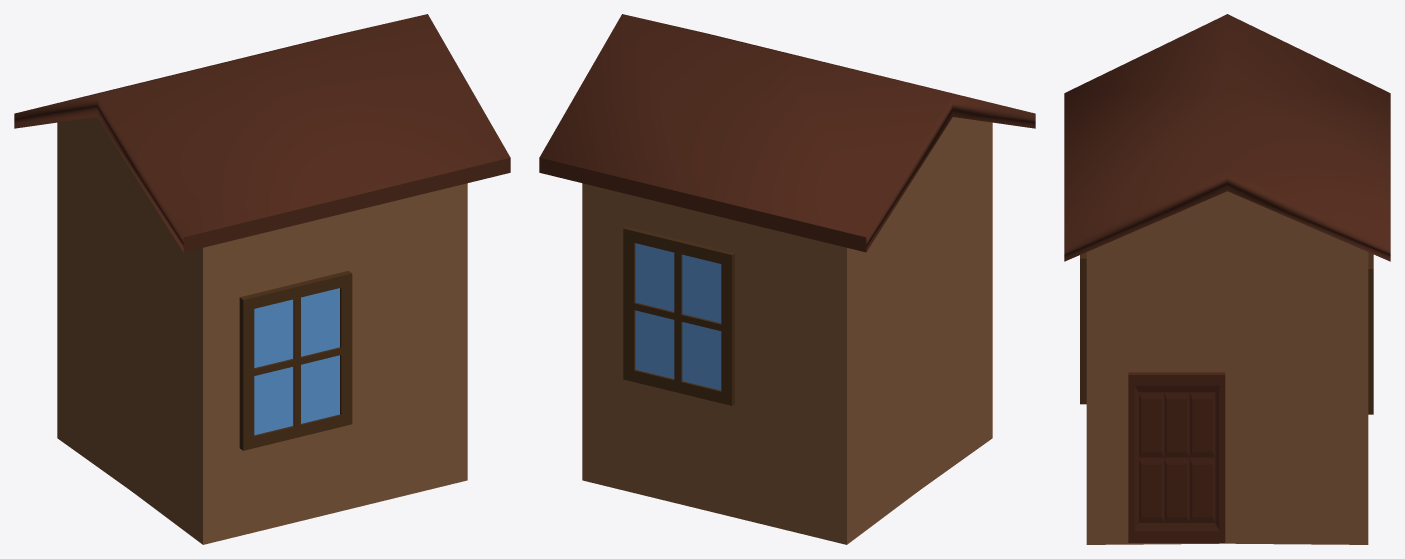
Rendered from Choza2.fbx.
The picture shows the model from 3 angles, left to right: view 1: azimuth 30°, elevation 25°; view 2: azimuth 150°, elevation 25°; view 3: azimuth 270°, elevation 25°; orthographic projection. The views are drawn at different scales.
Parts seen in each view (by area): view 1: Choza2; view 2: Choza2; view 3: Choza2.
Boxes of the visible parts, left/top/right/bottom form: Choza2: left=14, top=14, right=510, bottom=544; Choza2: left=539, top=14, right=1035, bottom=544; Choza2: left=1064, top=14, right=1390, bottom=544.
Size of the model in its own units: 154 by 180 by 137.
